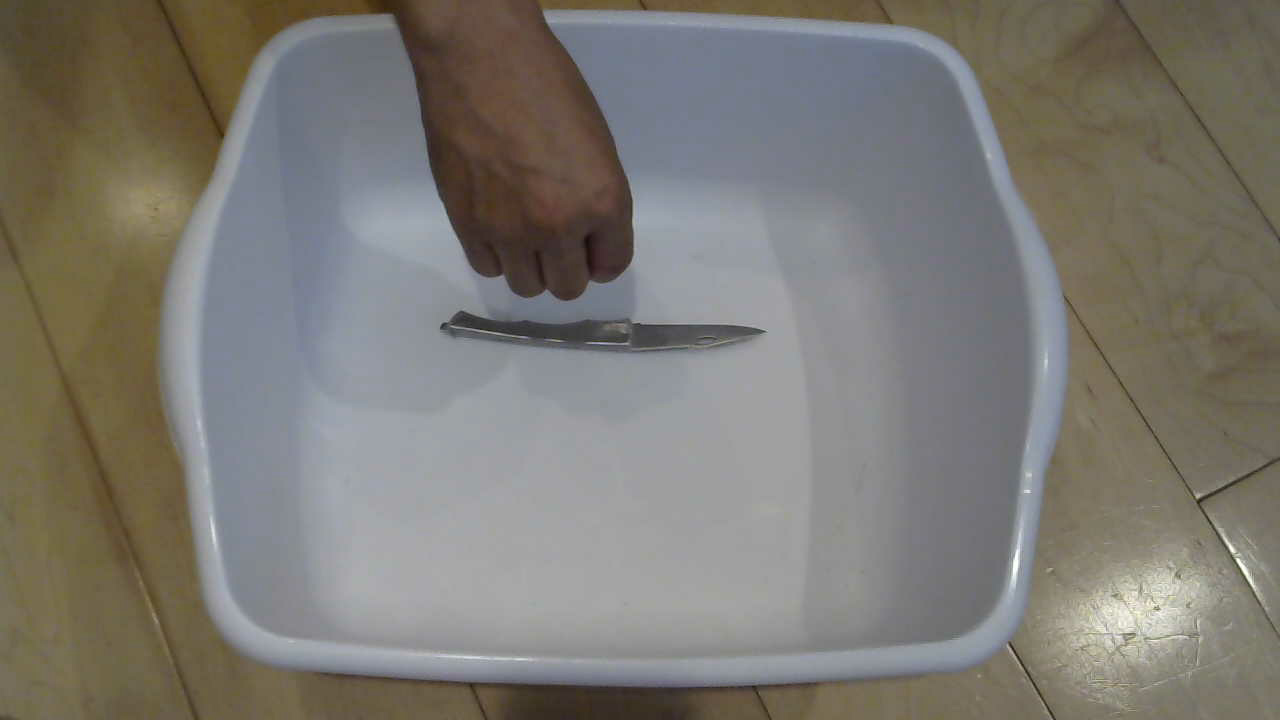knife: (423, 286, 798, 391)
